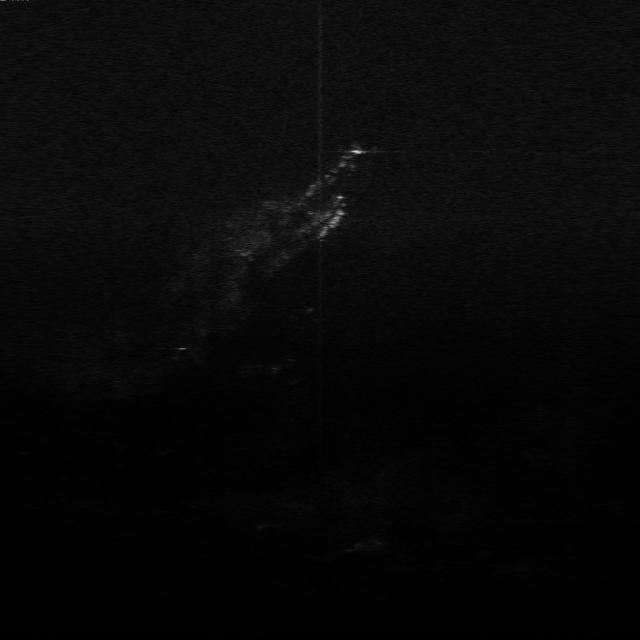rov: (346, 143, 373, 161)
